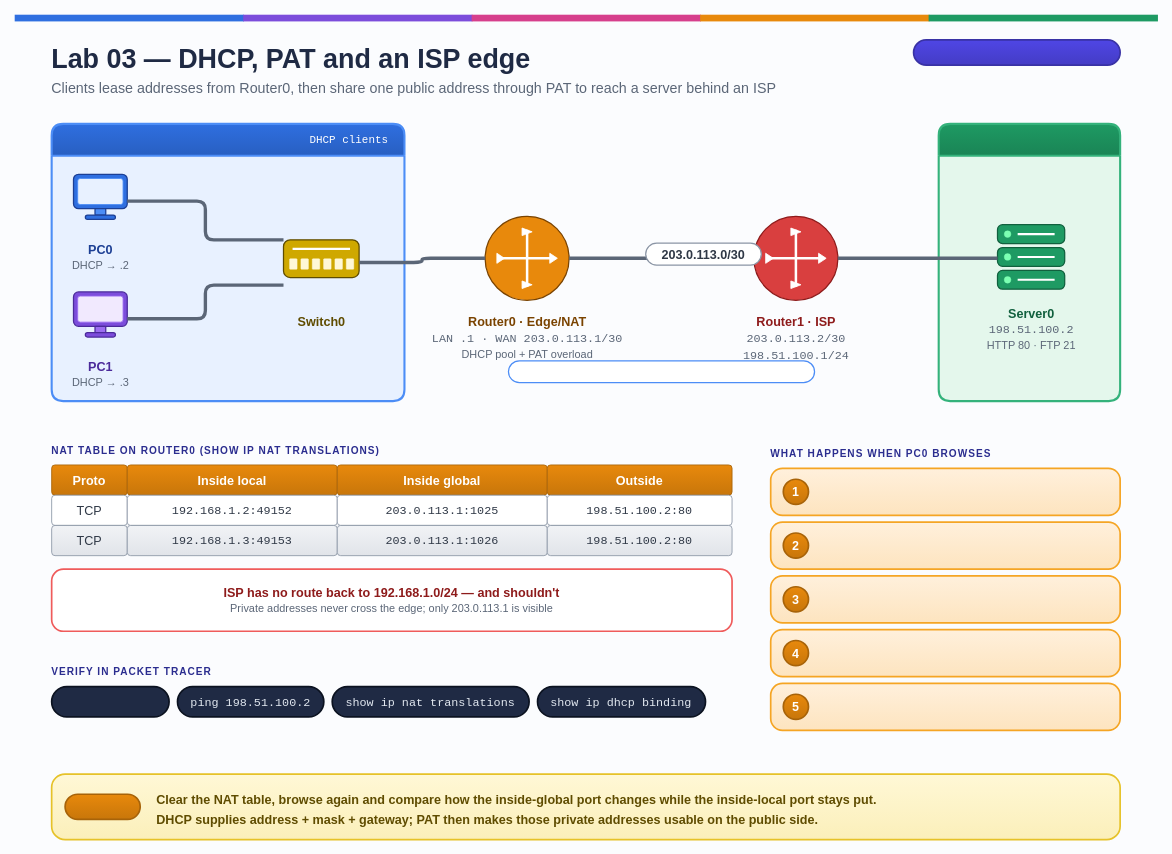
The diagram is 1172 pixels wide and 854 high, and some of its shapes have lost their labels. Here are the shapes that lost their labels. From the top down, the box of each, then its label:
(912, 39, 1121, 66): LAB 03 · PACKET TRACER LAB
(50, 122, 405, 402): PRIVATE LAN · 192.168.1.0/24
(937, 122, 1121, 402): PUBLIC · .100.0/24
(507, 360, 815, 383): PAT: 192.168.1.2:49152 → 203.0.113.1:1025
(769, 467, 1121, 516): DORA on the LAN Discover · Offer · Request · Ack → .2 / .3
(769, 521, 1121, 570): Off-subnet destination client sends to default gateway 192.168.1.1
(769, 575, 1121, 623): Router0 translates src 192.168.1.x:port → 203.0.113.1:new port
(769, 628, 1121, 677): Server sees one host all clients share 203.0.113.1
(50, 685, 170, 717): ipconfig /all
(769, 682, 1121, 731): Return traffic NAT table maps it back to the right PC
(64, 793, 141, 820): OBSERVE
